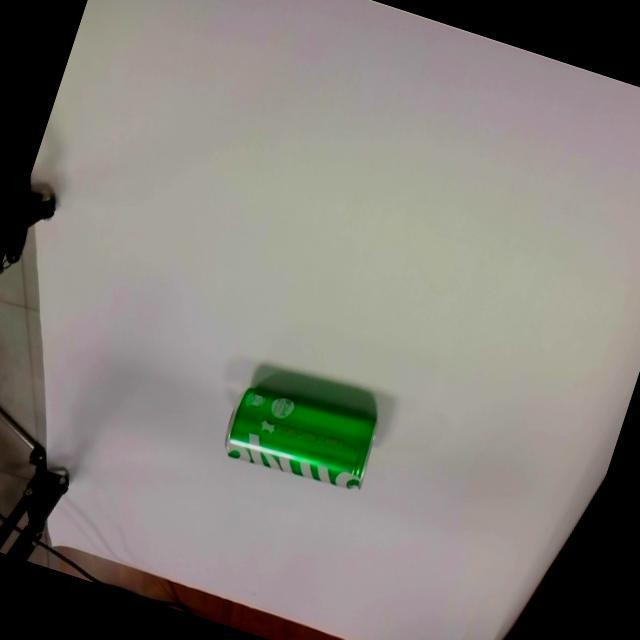debris: (218, 352, 392, 500)
